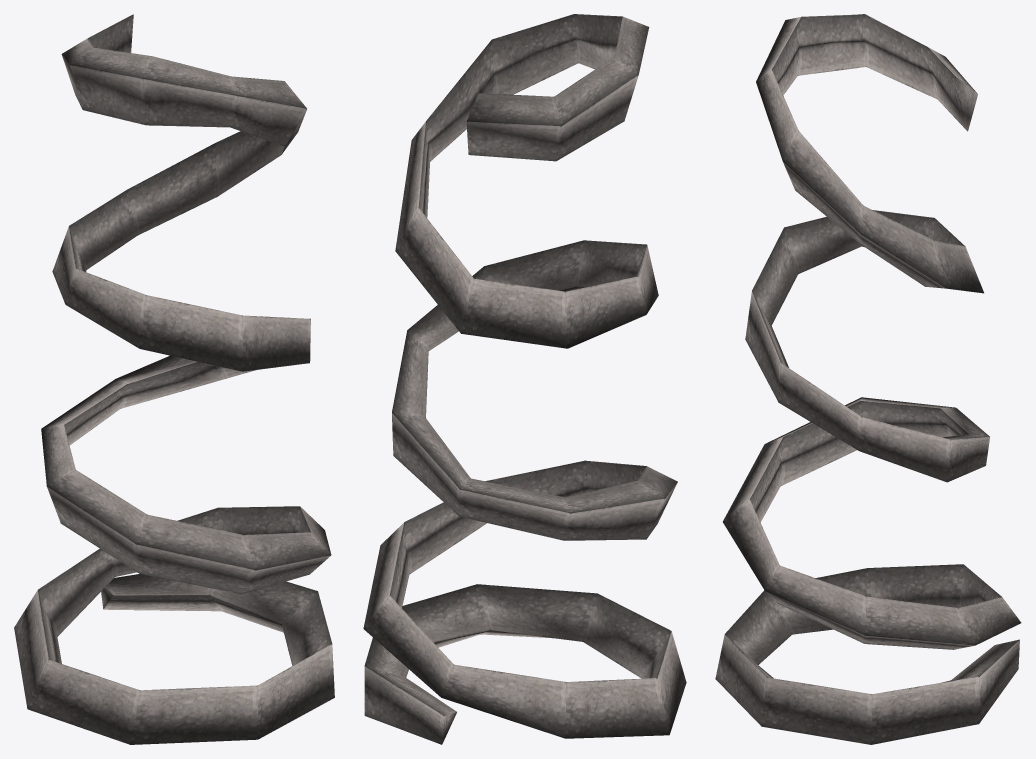
Rendered from spring02.obj.
3 renders of one model, left to right at view 1: azimuth 30°, elevation 25°; view 2: azimuth 150°, elevation 25°; view 3: azimuth 270°, elevation 25°, orthographic. The views are drawn at different scales.
Parts seen in each view (by area): view 1: spring02; view 2: spring02; view 3: spring02.
Part boxes in pixels (x1,y1,x2,y2): spring02: [14, 14, 334, 744]; spring02: [363, 14, 686, 744]; spring02: [715, 14, 1021, 744].
Size of the model in its own units: 1.51 by 3.29 by 1.44.
